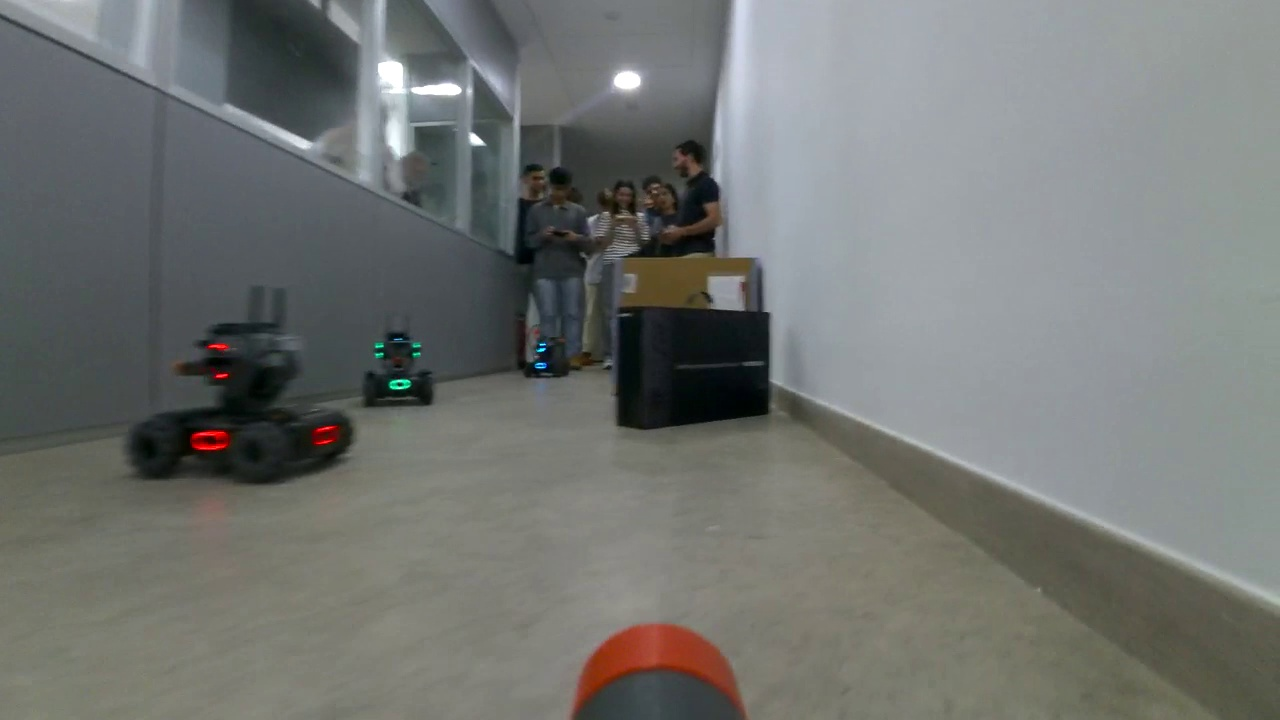robot: (122, 317, 359, 491), (362, 330, 433, 403), (524, 332, 569, 379)
